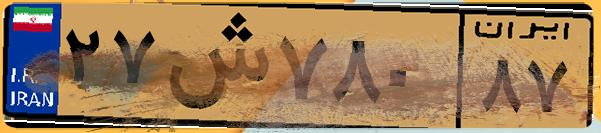0: (385, 28, 445, 110)
2: (57, 26, 110, 100)
7: (270, 28, 330, 110), (525, 38, 570, 115), (110, 28, 158, 98)
8: (330, 28, 385, 110), (475, 38, 525, 113)
ش: (158, 12, 270, 120)
